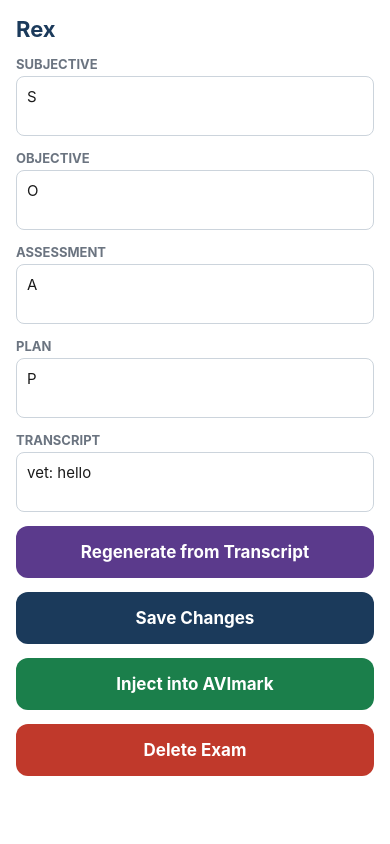
Test: ExamEditor › surfaces a save failure
The width and height of the screenshot is (390, 844).
Click the button "Save Changes".
click(195, 618)  # box top-left (16, 592), bottom-right (374, 644)
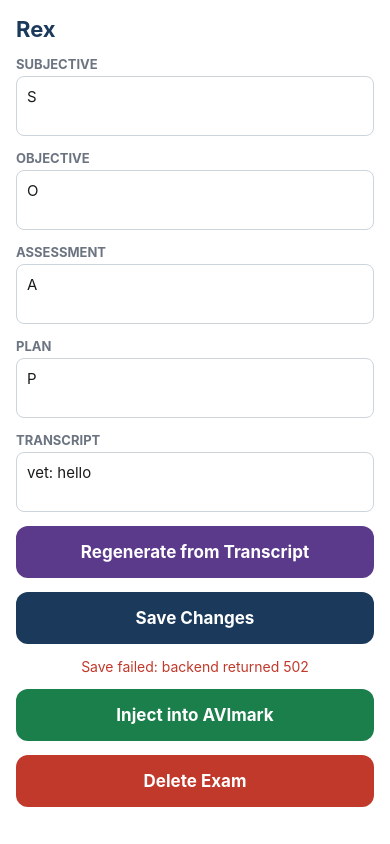
Now the text "Save failed: backend returned 502" is shown, box top-left (81, 658), bottom-right (309, 675)
